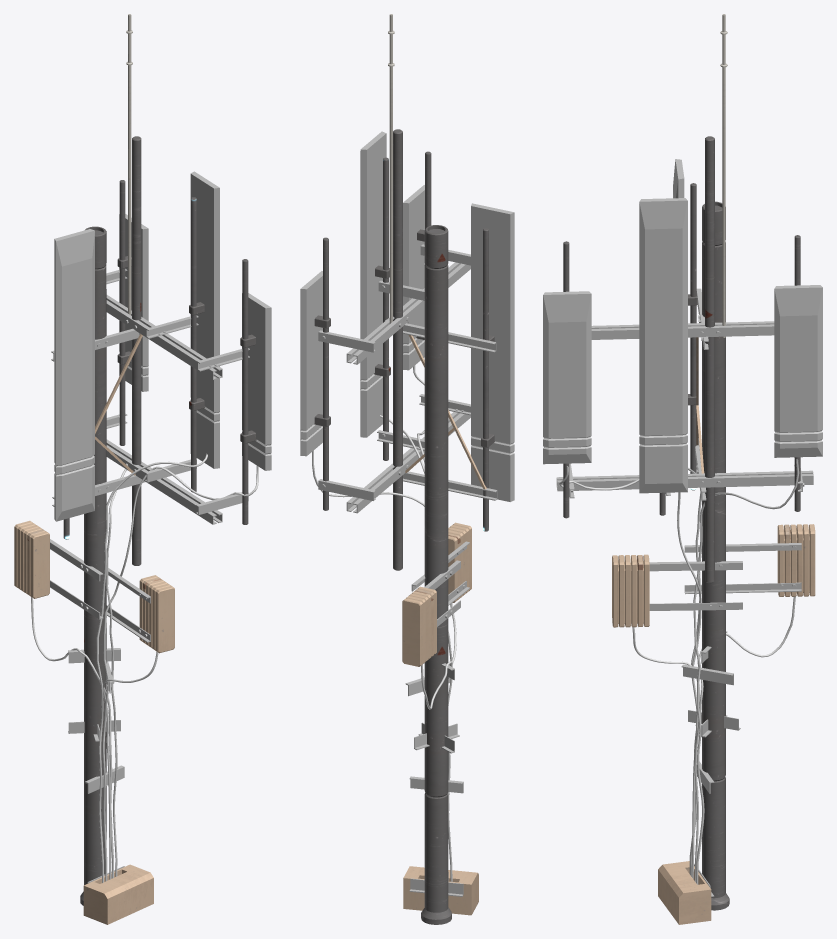
Rendered from KB3D_CBP_Antenna_M.fbx.
3 renders of one model, left to right at view 1: azimuth 30°, elevation 25°; view 2: azimuth 150°, elevation 25°; view 3: azimuth 270°, elevation 25°, orthographic. The views are drawn at different scales.
Parts seen in each view (by area): view 1: KB3D_CBP_Antenna_M_Main; view 2: KB3D_CBP_Antenna_M_Main; view 3: KB3D_CBP_Antenna_M_Main.
Boxes of the visible parts, x1,y1,x2,y2 form: KB3D_CBP_Antenna_M_Main: (14, 14, 271, 924); KB3D_CBP_Antenna_M_Main: (300, 14, 514, 924); KB3D_CBP_Antenna_M_Main: (543, 14, 822, 924).
Bounding box in the file's own units: 129 × 701 × 195.
